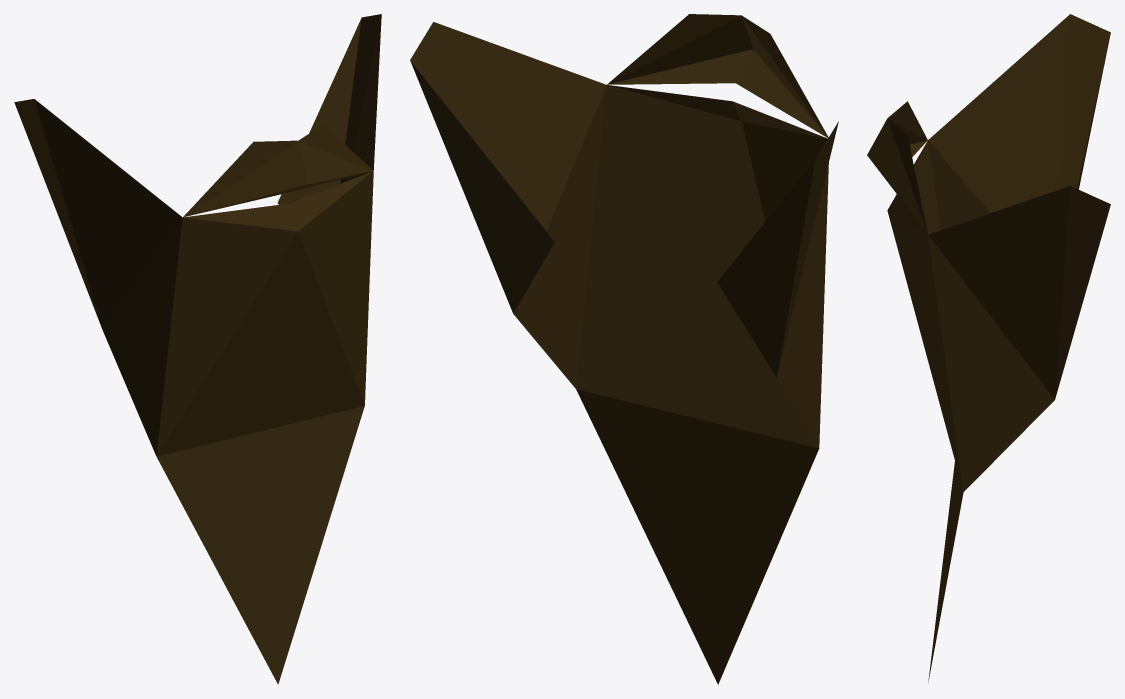
The model's file is model_82_idk_head.obj.
3 views of the same model, side by side, from view 1: azimuth 30°, elevation 25°; view 2: azimuth 150°, elevation 25°; view 3: azimuth 270°, elevation 25° (orthographic). The views are drawn at different scales.
Parts seen in each view (by area): view 1: 82; view 2: 82; view 3: 82.
Boxes of the visible parts, x1=… form: 82: x1=14, y1=14, x2=381, y2=684; 82: x1=410, y1=14, x2=838, y2=684; 82: x1=867, y1=14, x2=1110, y2=681.
Bounding box in the file's own units: 80 × 127 × 48.
